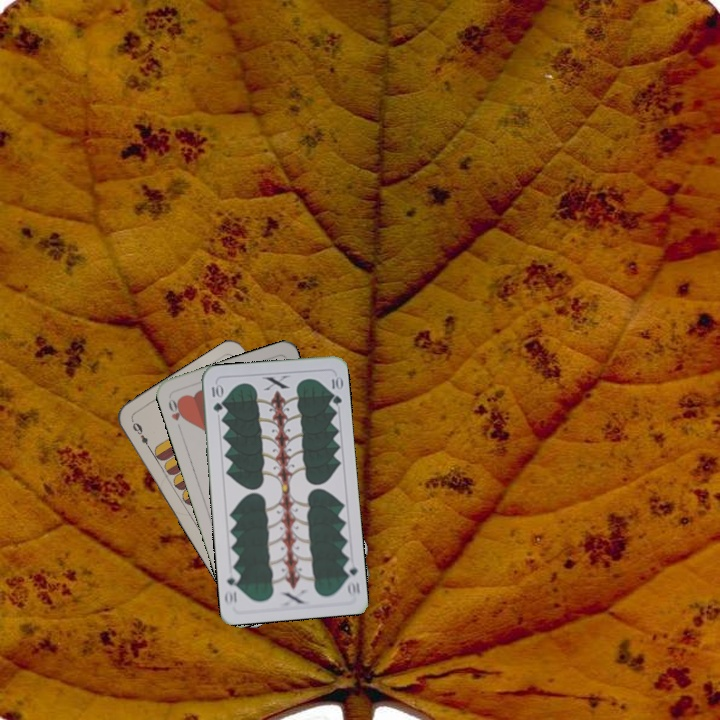E9: (127, 416, 154, 453)
G10: (340, 557, 362, 598), (208, 380, 225, 415)
HO: (164, 393, 188, 423)
